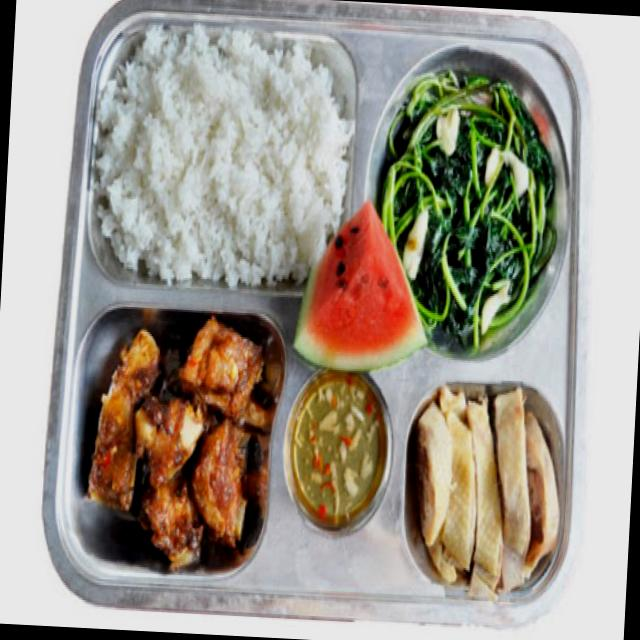com: (92, 25, 353, 283)
dua hau: (294, 200, 425, 367)
rau muong: (379, 68, 555, 355)
suon xao: (90, 317, 276, 567)
